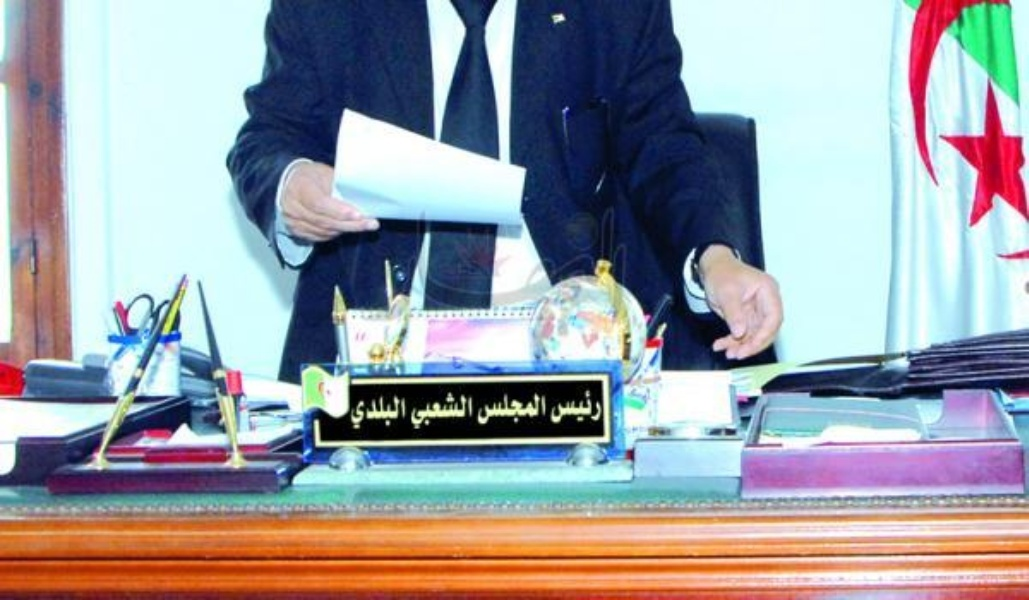text: (417, 391, 432, 433), (433, 391, 448, 433), (449, 391, 464, 433), (561, 388, 576, 426), (577, 388, 592, 426), (481, 391, 496, 427), (497, 391, 512, 427), (513, 391, 528, 427), (529, 391, 544, 427), (353, 395, 368, 431), (369, 395, 384, 431), (385, 395, 400, 431), (465, 391, 476, 433), (549, 388, 560, 426), (593, 388, 604, 426), (410, 391, 416, 433), (401, 395, 407, 431), (476, 391, 480, 427), (545, 391, 548, 427), (350, 395, 352, 431)
